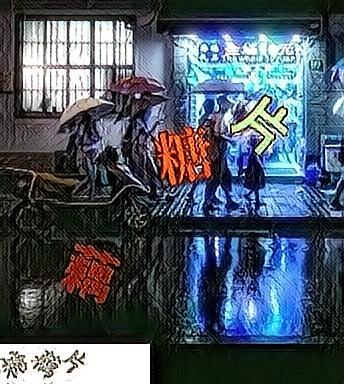C5BA: (55, 242, 120, 306)
C6AC: (226, 94, 291, 158)
CCC7: (148, 126, 213, 190)
